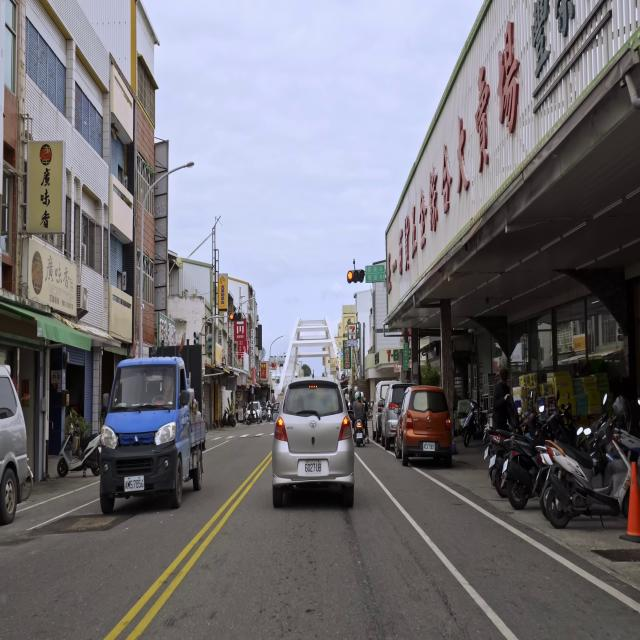red light: (347, 270, 365, 282), (230, 312, 242, 321)
